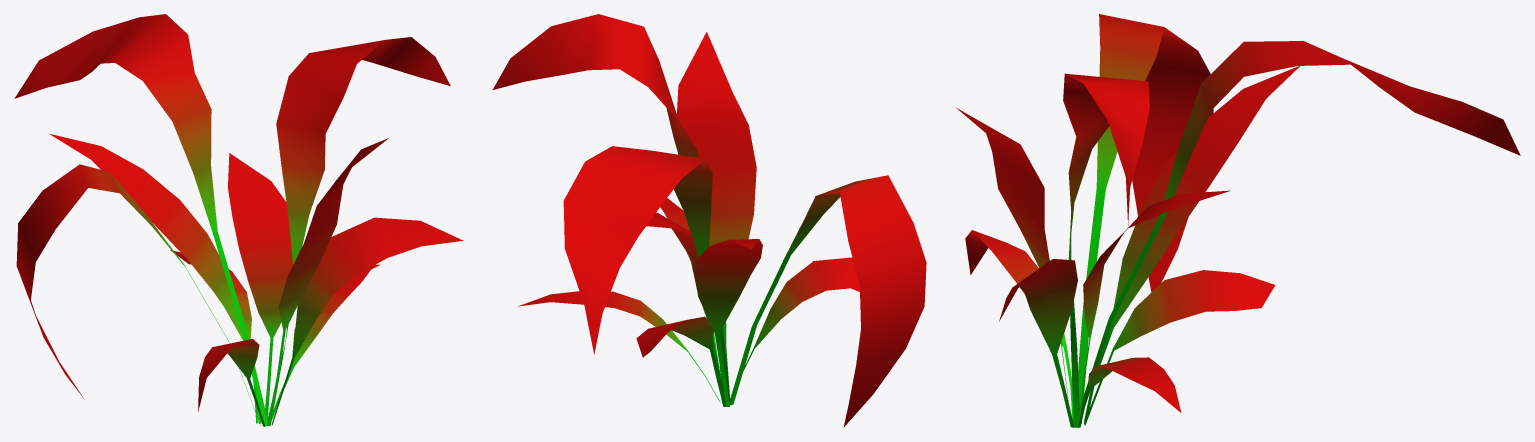
File: Cast - Iron Plant_LOD2_Var6_shdmr.fbx
3 renders of one model, left to right at view 1: azimuth 30°, elevation 25°; view 2: azimuth 150°, elevation 25°; view 3: azimuth 270°, elevation 25°, orthographic. The views are drawn at different scales.
Parts seen in each view (by area): view 1: _1e8c_Var6_LOD2; view 2: _1e8c_Var6_LOD2; view 3: _1e8c_Var6_LOD2.
Boxes of the visible parts, bbox=[...] form: _1e8c_Var6_LOD2: bbox=[14, 14, 462, 426]; _1e8c_Var6_LOD2: bbox=[492, 14, 926, 427]; _1e8c_Var6_LOD2: bbox=[956, 14, 1520, 427].
Bounding box in the file's own units: 58.33 × 46.8 × 58.18.
